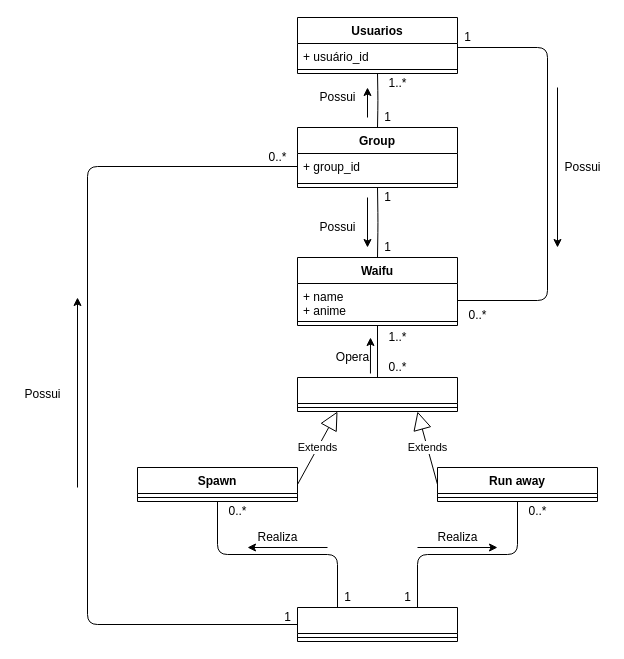
This 624x659 diagram has some shape labels left out. The shapes that lost their labels are listed below. From the top down, each one's centre as x and y in pixels, then its label:
At pixel 377 394: "Operação".
At pixel 377 624: "Bot".
